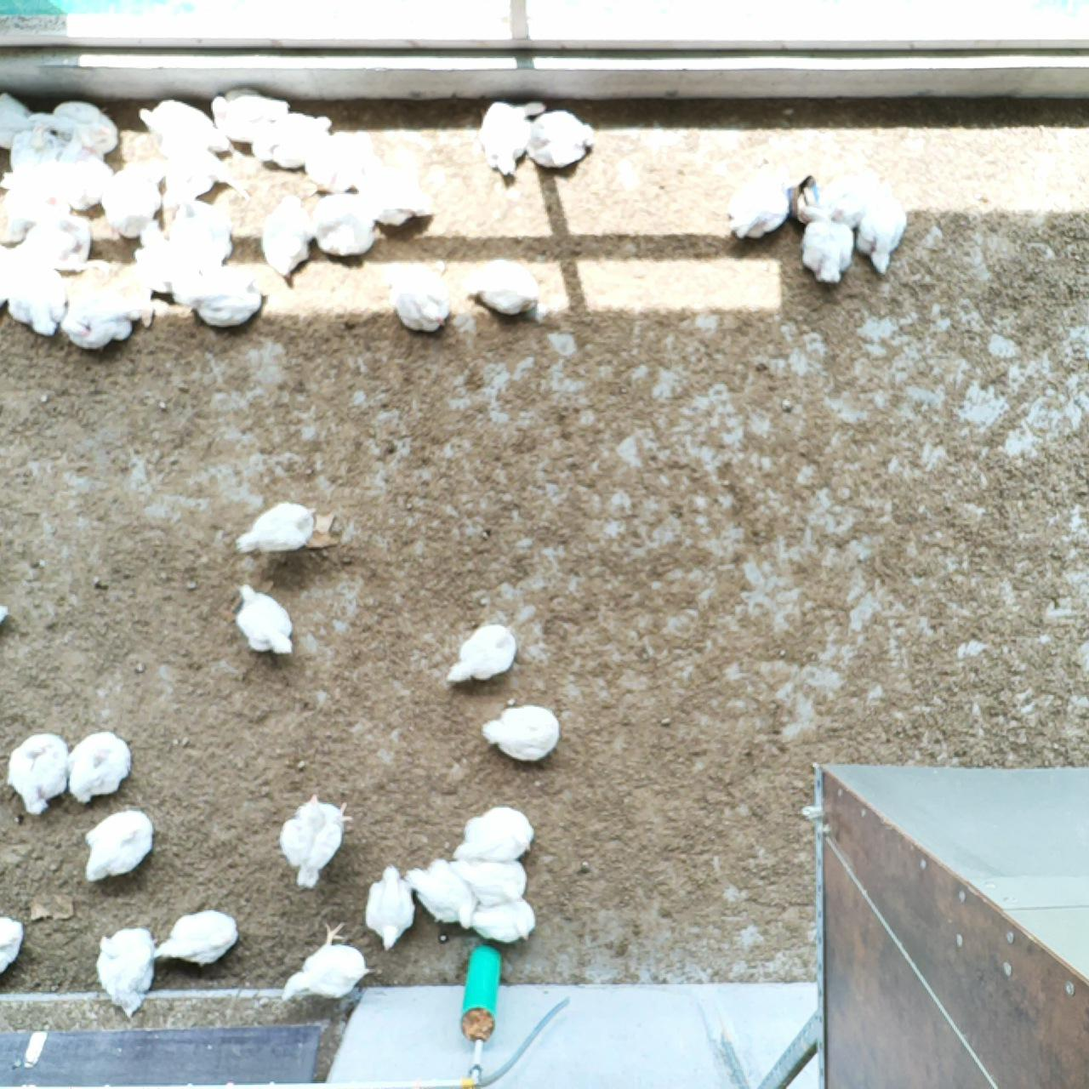chicken: (278, 915, 374, 1012), (275, 789, 354, 895), (93, 922, 161, 1024), (134, 94, 235, 158), (159, 137, 255, 204), (5, 729, 74, 822), (443, 615, 520, 696), (24, 95, 124, 156), (402, 855, 479, 934), (379, 257, 455, 337), (721, 161, 795, 243), (83, 807, 159, 886), (449, 801, 540, 866), (475, 95, 543, 181), (460, 251, 540, 324), (153, 906, 241, 972), (853, 179, 910, 279), (361, 859, 420, 954), (4, 256, 69, 342), (178, 265, 264, 330), (100, 154, 161, 245), (58, 287, 143, 352), (478, 702, 566, 763), (65, 728, 134, 804), (260, 189, 317, 281), (250, 110, 334, 172), (233, 498, 318, 559), (356, 169, 440, 230), (233, 579, 296, 659), (522, 105, 597, 169), (207, 81, 287, 140), (16, 211, 95, 270), (312, 193, 380, 261), (445, 853, 530, 906), (307, 128, 375, 194), (798, 215, 857, 286), (131, 216, 182, 298), (814, 161, 878, 224), (469, 893, 538, 949), (50, 146, 112, 208), (170, 199, 228, 260), (5, 120, 64, 174), (0, 171, 56, 223), (0, 87, 27, 154), (0, 915, 28, 978)
